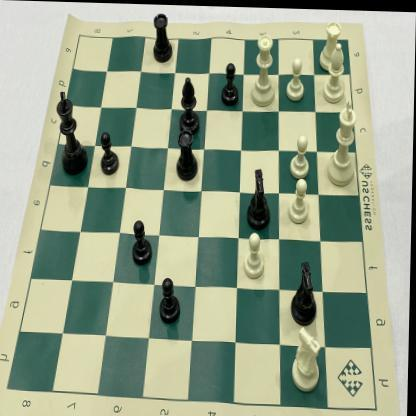black-bishop: (176, 69, 205, 139)
black-king: (51, 87, 91, 178)
black-knight: (242, 159, 276, 232), (290, 255, 323, 326)
black-pawn: (158, 273, 185, 325), (129, 217, 155, 268), (97, 127, 122, 177), (219, 56, 242, 107)
black-rook: (173, 127, 202, 184), (148, 7, 176, 66)
white-bishop: (319, 38, 348, 104)
white-king: (325, 95, 360, 188)
white-knight: (287, 320, 325, 394)
white-pawn: (240, 229, 268, 281), (286, 174, 315, 224), (284, 51, 309, 101), (289, 130, 314, 179)
white-queen: (248, 27, 281, 109)
white-rook: (315, 16, 345, 75)
